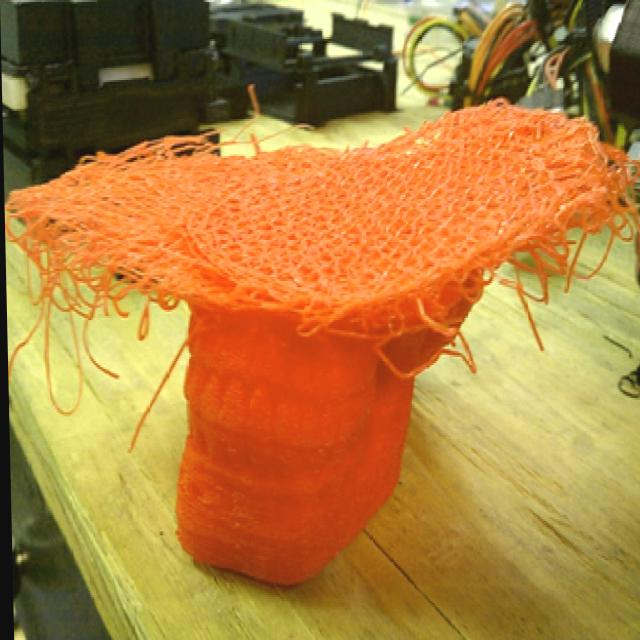spaghetti: (34, 92, 630, 410)
